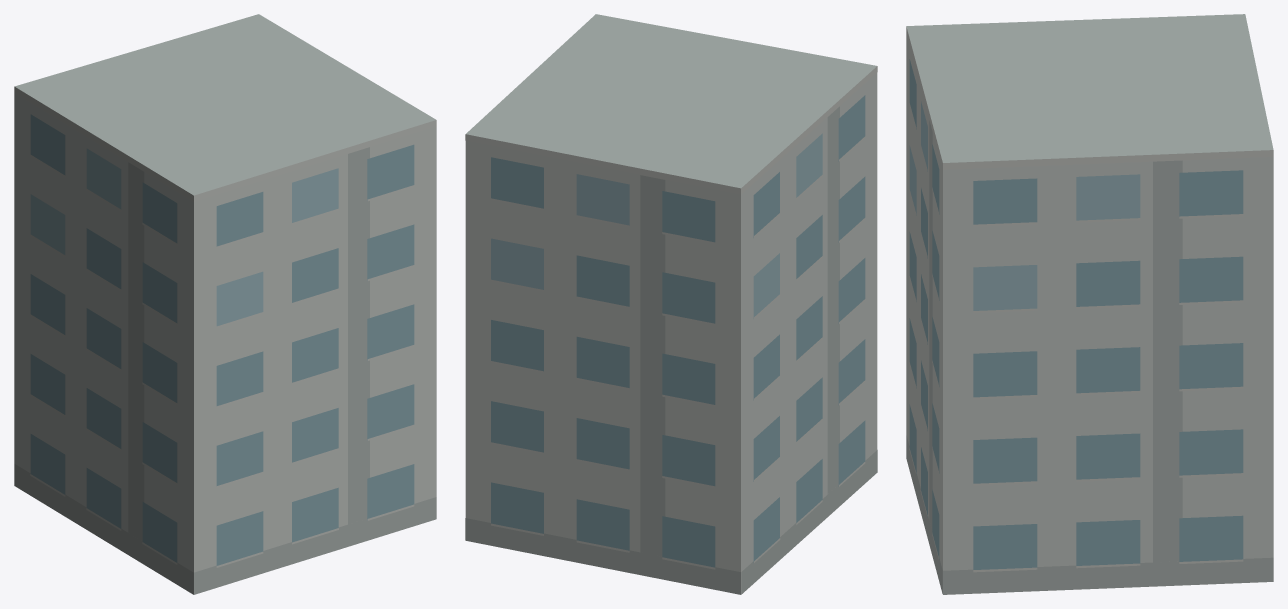
File: survey-upis-32563893.glb
The picture shows the model from 3 angles, left to right: view 1: azimuth 30°, elevation 25°; view 2: azimuth 150°, elevation 25°; view 3: azimuth 270°, elevation 25°; orthographic projection. The views are drawn at different scales.
Parts seen in each view (by area): view 1: survey-upis-32563893.tmp; view 2: survey-upis-32563893.tmp; view 3: survey-upis-32563893.tmp.
Boxes of the visible parts, x1,y1,x2,y2 form: survey-upis-32563893.tmp: (14, 14, 436, 594); survey-upis-32563893.tmp: (465, 14, 877, 594); survey-upis-32563893.tmp: (906, 14, 1273, 594).
Bounding box in the file's own units: 11.3 × 15.25 × 11.77.
